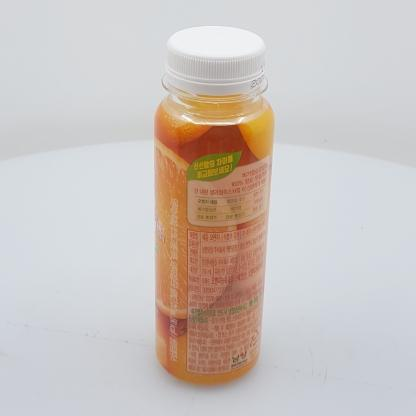--------210ML: (154, 26, 275, 385)
